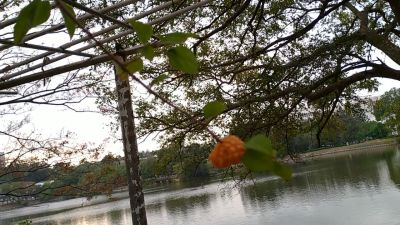eggs: (210, 134, 247, 168)
